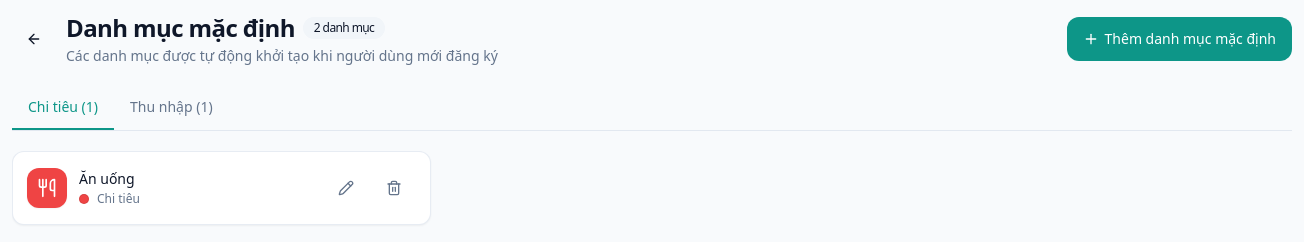
Test: Admin Pages Component Tests › AdminDefaultCategoriesPage: hiển thị danh mục mặc định và lọc theo tab Chi tiêu / Thu nhập
Expected: the heading "Danh mục mặc định 2 danh mục" is shown, [66,11,385,44]
Expected: the text "Ăn uống" is shown, [79,169,140,189]
// Chuyển sang tab Thu nhập
Step 1. Click the button "Thu nhập (1)" → (171,108), box [114,86,229,130]
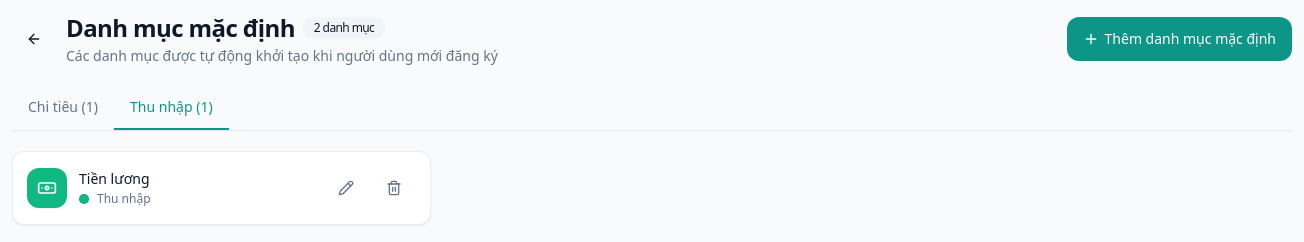
Now the text "Tiền lương" is shown, box [79,169,151,189]
